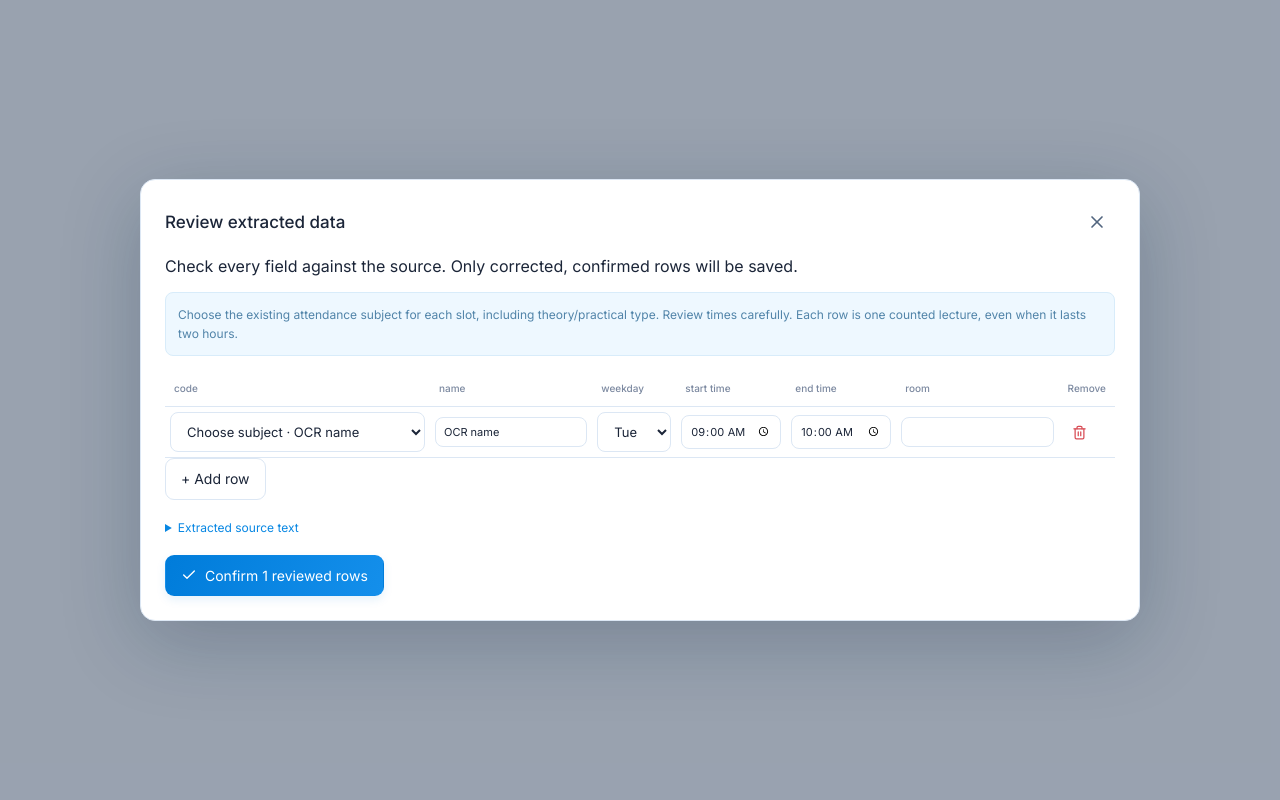
Scenario: choosing an existing timetable subject updates both code and name
This screenshot has width=1280, height=800.
Select "P101 · Physics practical (practical)" in the dropdown named "Subject row 1". click: (298,432)
box: [170,412,425,452]
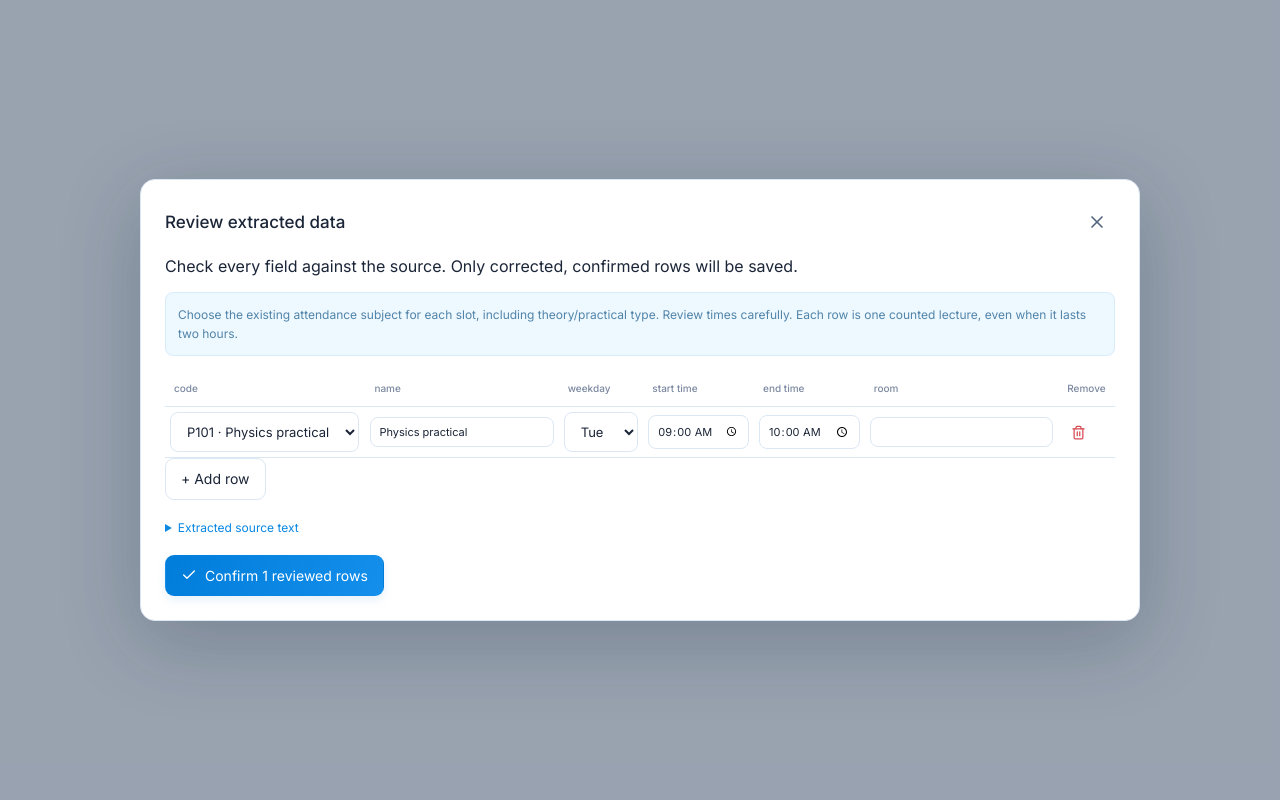
Expected: the field named "name row 1" holds "Physics practical", [370,417,554,447]
